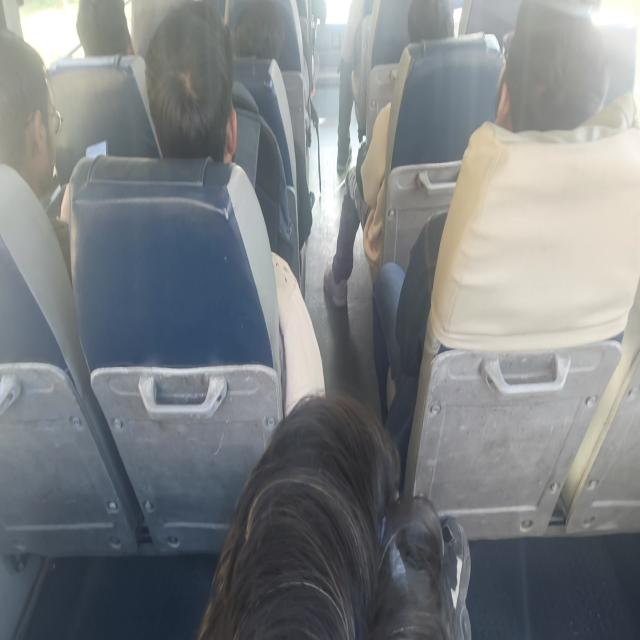person: (249, 400, 495, 640), (504, 6, 607, 143), (144, 39, 232, 174), (2, 34, 73, 182), (394, 0, 462, 91), (76, 4, 149, 80), (229, 0, 293, 69)
